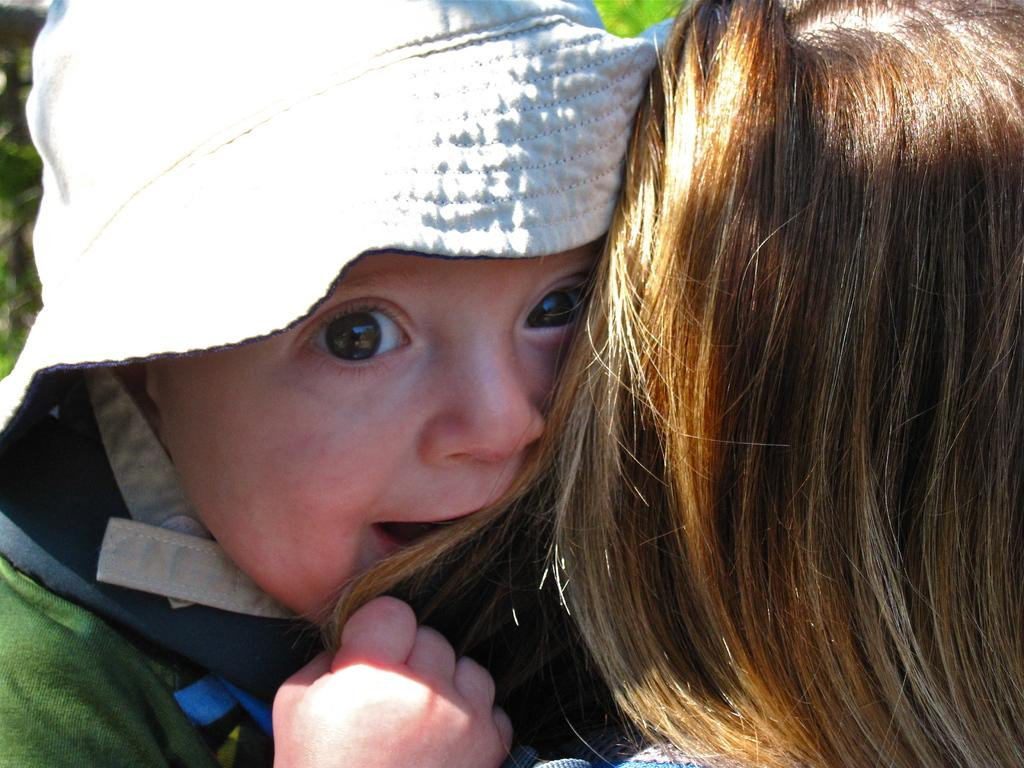Hat: (0, 0, 677, 604)
